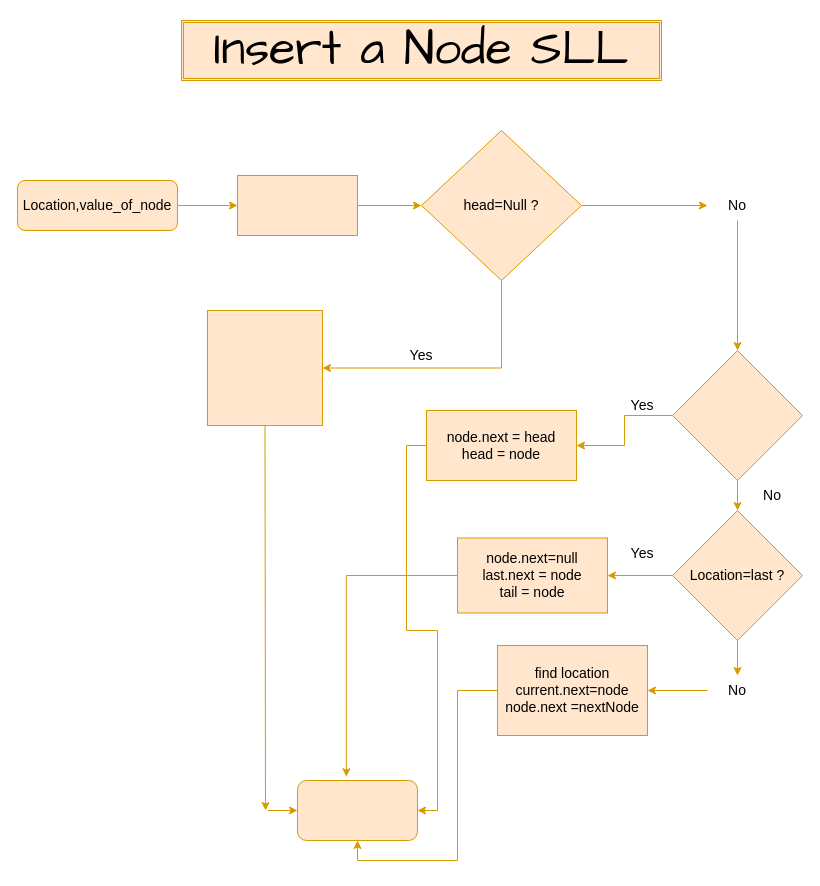
Some shapes in this 820 by 886 pixel diagram are drawn without their labels. The shapes that lost their labels are listed below. From the top down, each one's box as (x1, y1, x2, y2) in pixels, then its label:
(236, 174, 358, 236): - Create Node - Assign Node
(206, 310, 322, 426): head = node tail = node
(672, 350, 802, 480): Location=1st ?
(296, 780, 418, 840): Terminate
